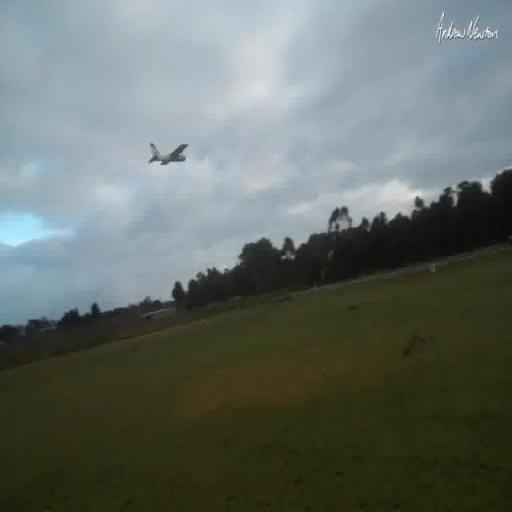uav: (144, 140, 192, 178)
